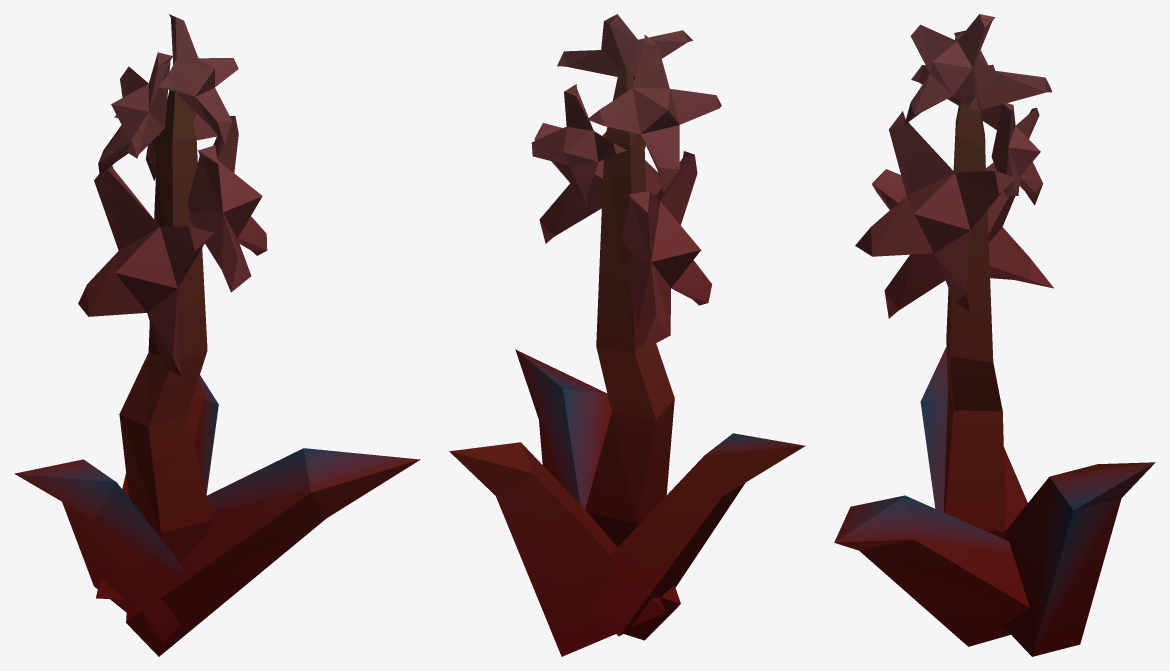
File: synty-plant-02.gltf
3 renders of one model, left to right at view 1: azimuth 30°, elevation 25°; view 2: azimuth 150°, elevation 25°; view 3: azimuth 270°, elevation 25°, orthographic. The views are drawn at different scales.
Parts seen in each view (by area): view 1: SM_Plant_02; view 2: SM_Plant_02; view 3: SM_Plant_02.
Part boxes in pixels (x1,y1,x2,y2): SM_Plant_02: [14, 14, 420, 656]; SM_Plant_02: [449, 14, 805, 656]; SM_Plant_02: [834, 14, 1155, 656].
Size of the model in its own units: 0.5243 by 0.9024 by 0.4086.
Materials: 1 (1 with a texture image).
